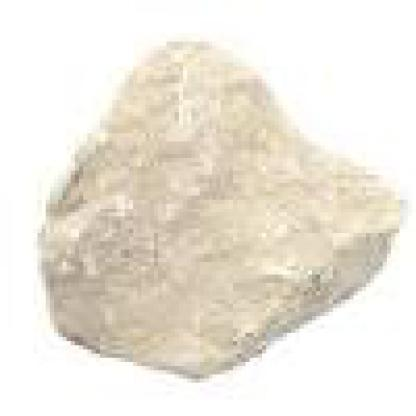Metamorphic_Quartize: (29, 29, 404, 387)
